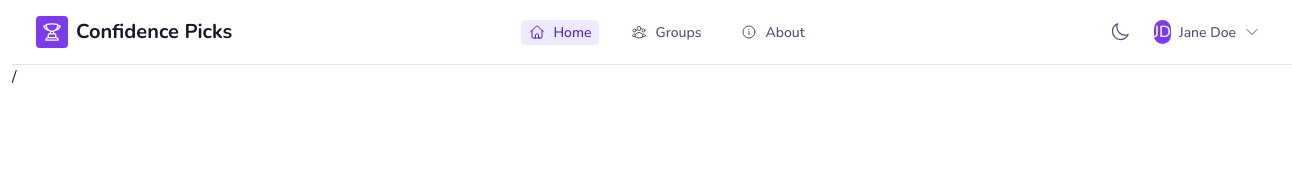
Scenario: Navigation › user menu › opens on click and shows Profile and Sign Out
This screenshot has width=1292, height=188.
Click the button with aria-label "User menu" at (1207, 32), box [1146,12,1268,52]
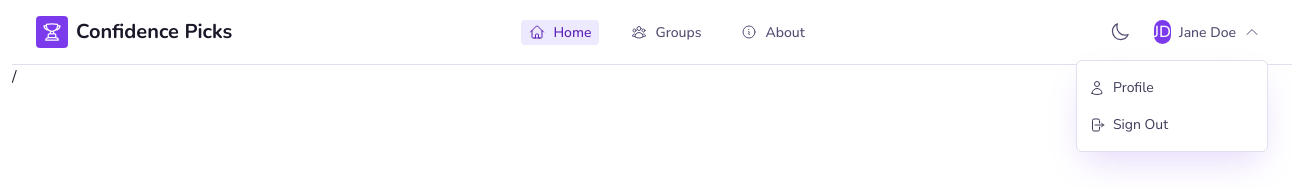
Result: the menu item "Profile" is shown at [1077,69,1267,106]
Result: the menu item "Sign Out" is shown at [1077,106,1267,143]
